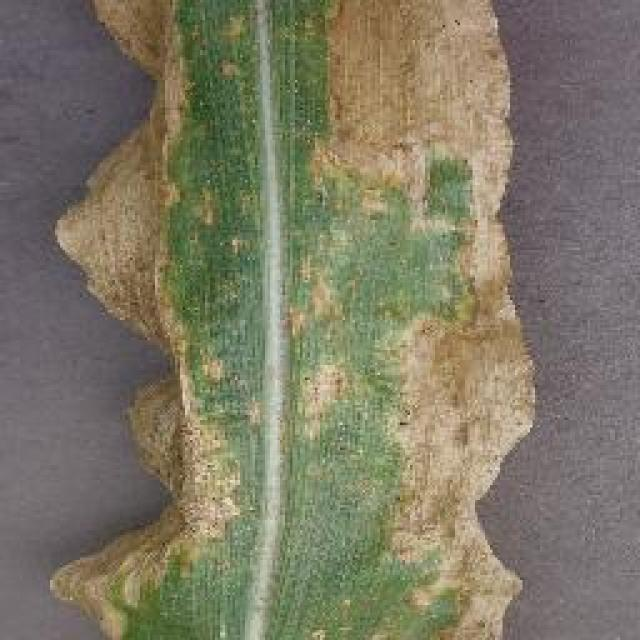Corn___Northern_Leaf_Blight: (17, 0, 555, 640)
